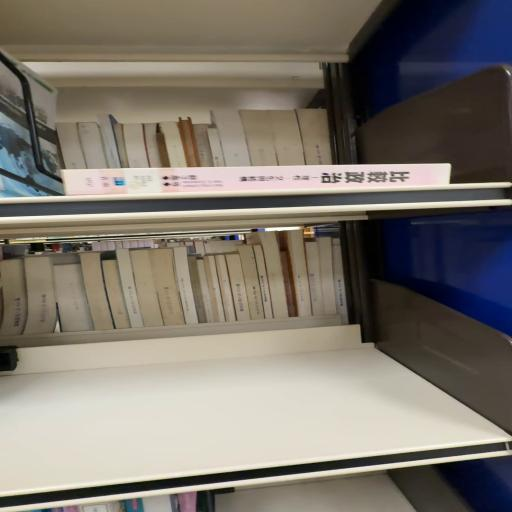flat: (63, 163, 450, 195)
